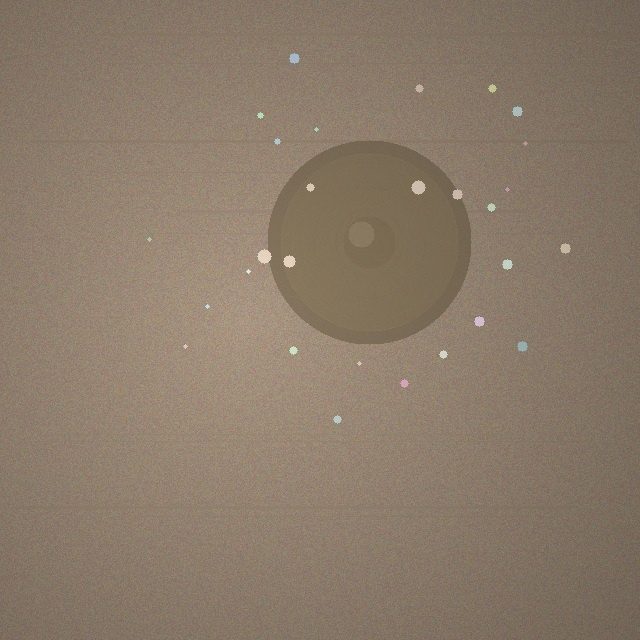overburn: (267, 140, 471, 344)
